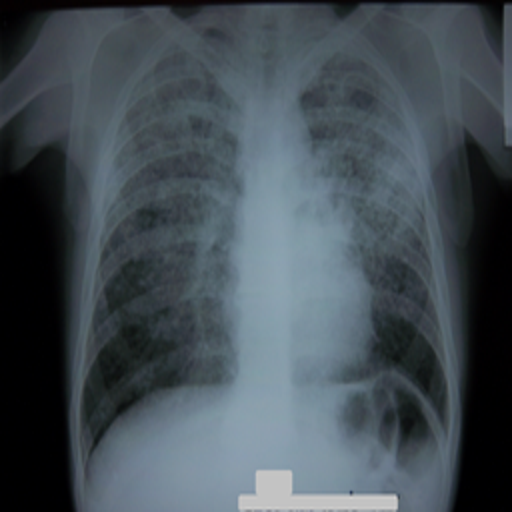TB: (112, 51, 231, 283), (324, 75, 418, 255)
